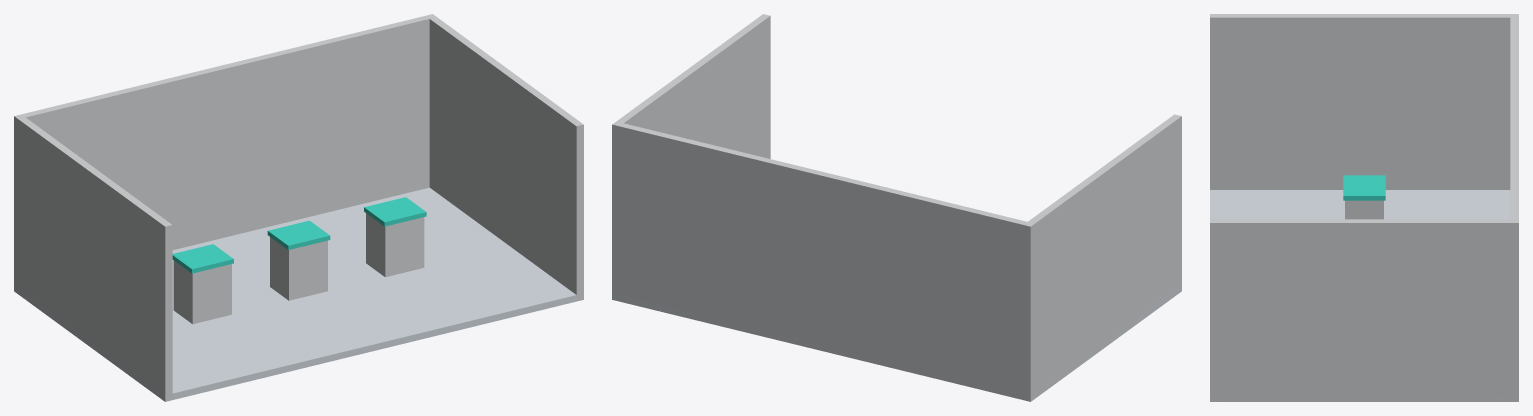
The picture shows the model from 3 angles, left to right: view 1: azimuth 30°, elevation 25°; view 2: azimuth 150°, elevation 25°; view 3: azimuth 270°, elevation 25°; orthographic projection. The views are drawn at different scales.
Visible parts, largest first — view 1: Exhibition Booth Concept; view 2: Exhibition Booth Concept; view 3: Exhibition Booth Concept.
Boxes of the visible parts, x1,y1,x2,y2 form: Exhibition Booth Concept: (14, 14, 583, 401); Exhibition Booth Concept: (612, 14, 1181, 401); Exhibition Booth Concept: (1210, 14, 1518, 401).
Size of the model in its own units: 8 by 3.2 by 5.
